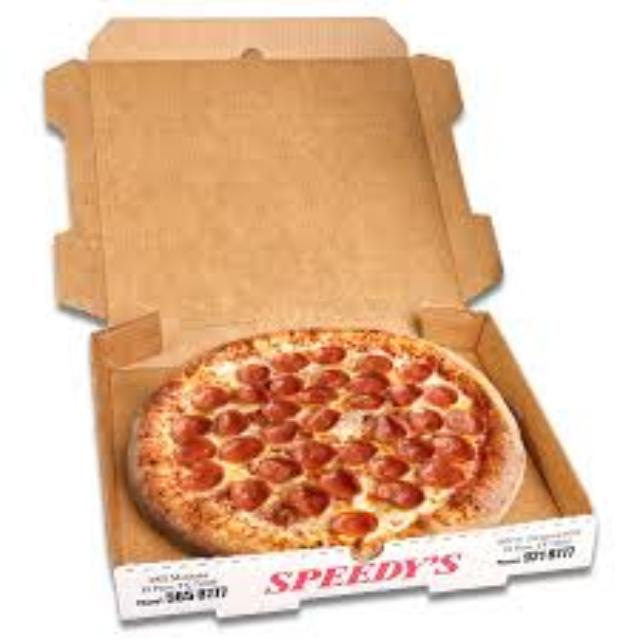cardboard paper: (43, 14, 589, 614)
